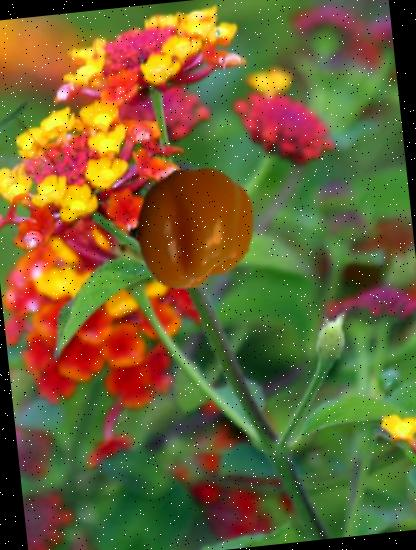Pepper: (121, 157, 266, 302)
